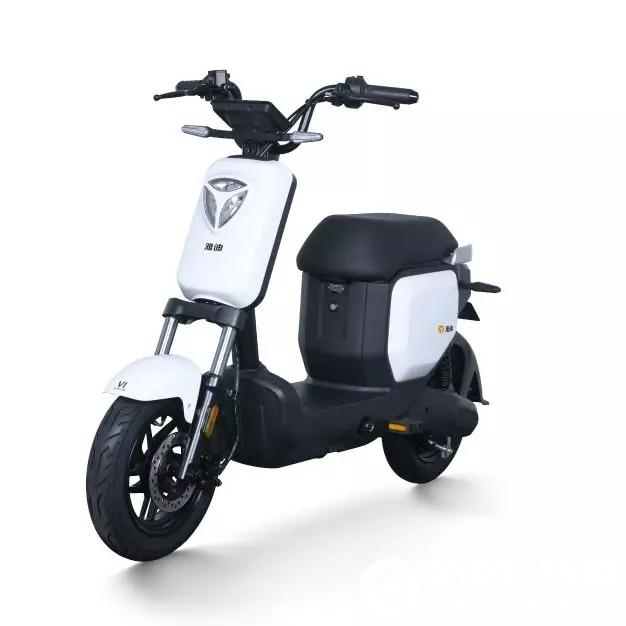电动车: (75, 56, 522, 584)
